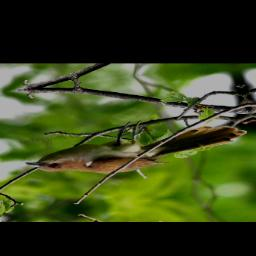Cuckoo: (15, 108, 256, 184)
